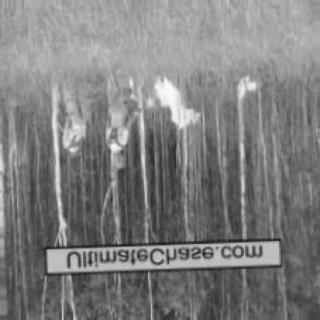Fire: (134, 74, 203, 138), (226, 71, 266, 107)
